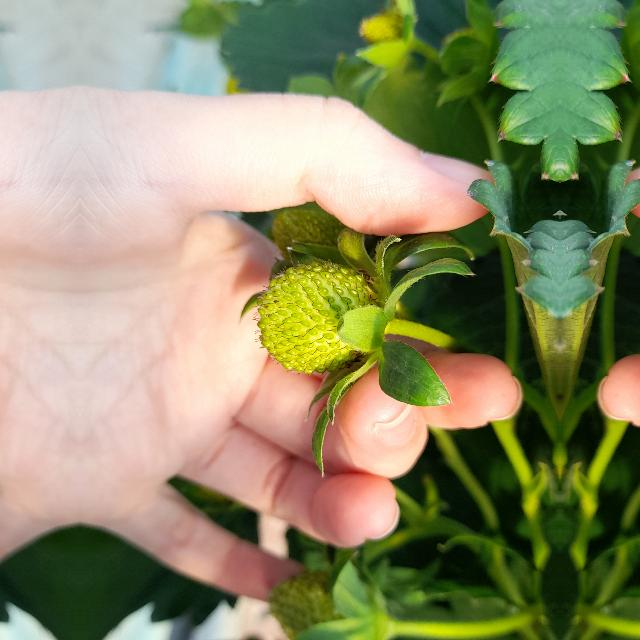Health_25: (256, 258, 382, 374)
